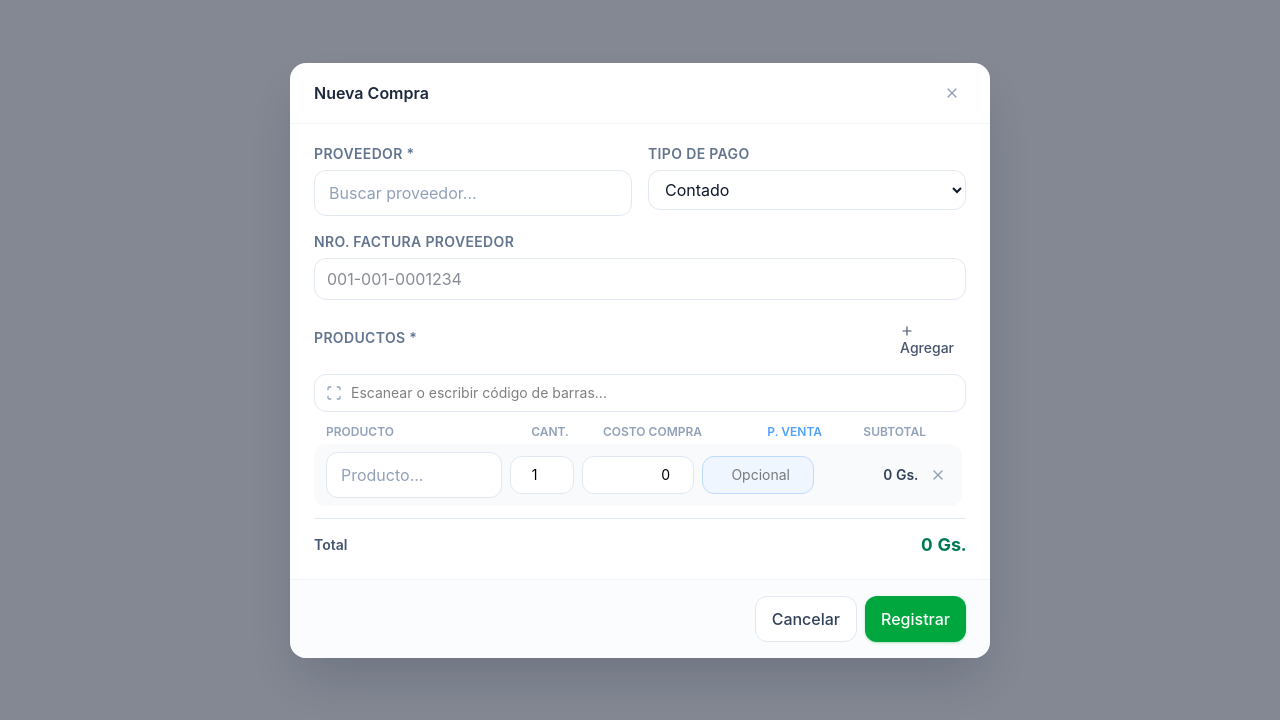
ModalCompra — margen costo vs. venta (Bloque 1) › indica que falta precio de venta cuando el campo queda en 0
Click the dropdown with placeholder "Buscar proveedor..." at x=473, y=192, box [314,170,632,216]
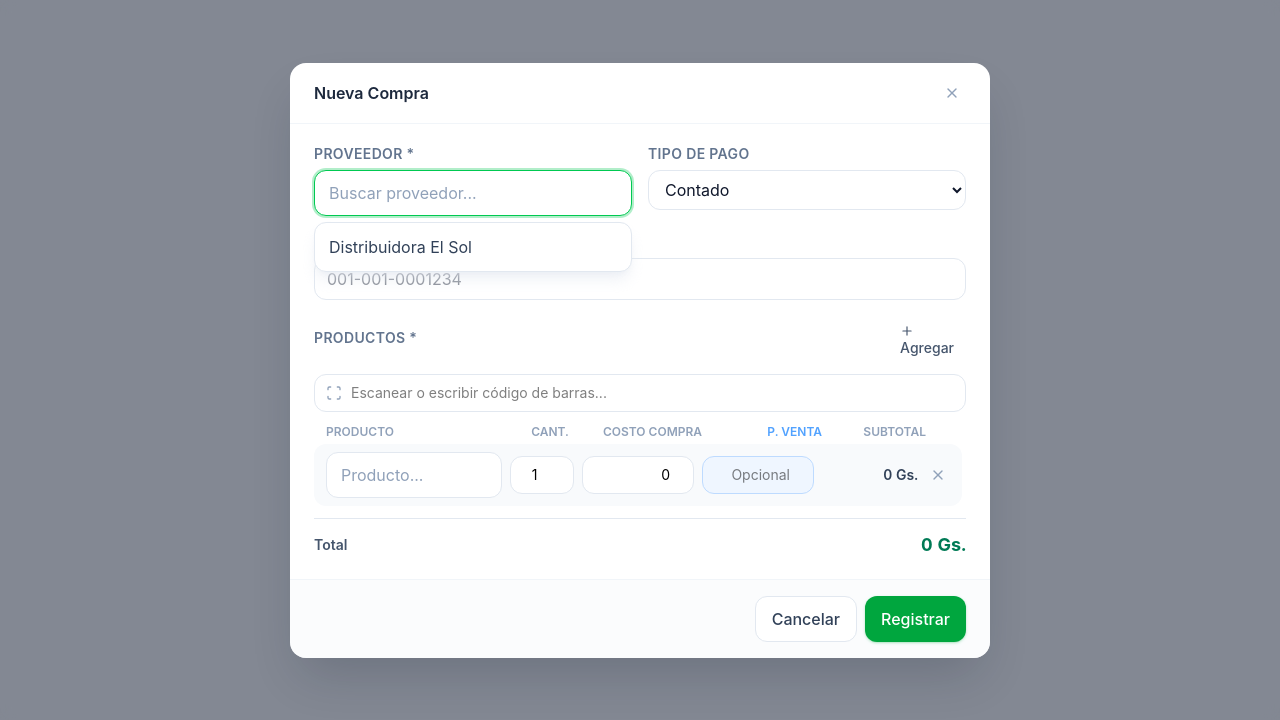
Click the option "Distribuidora El Sol" at x=400, y=246, box [329,236,472,256]
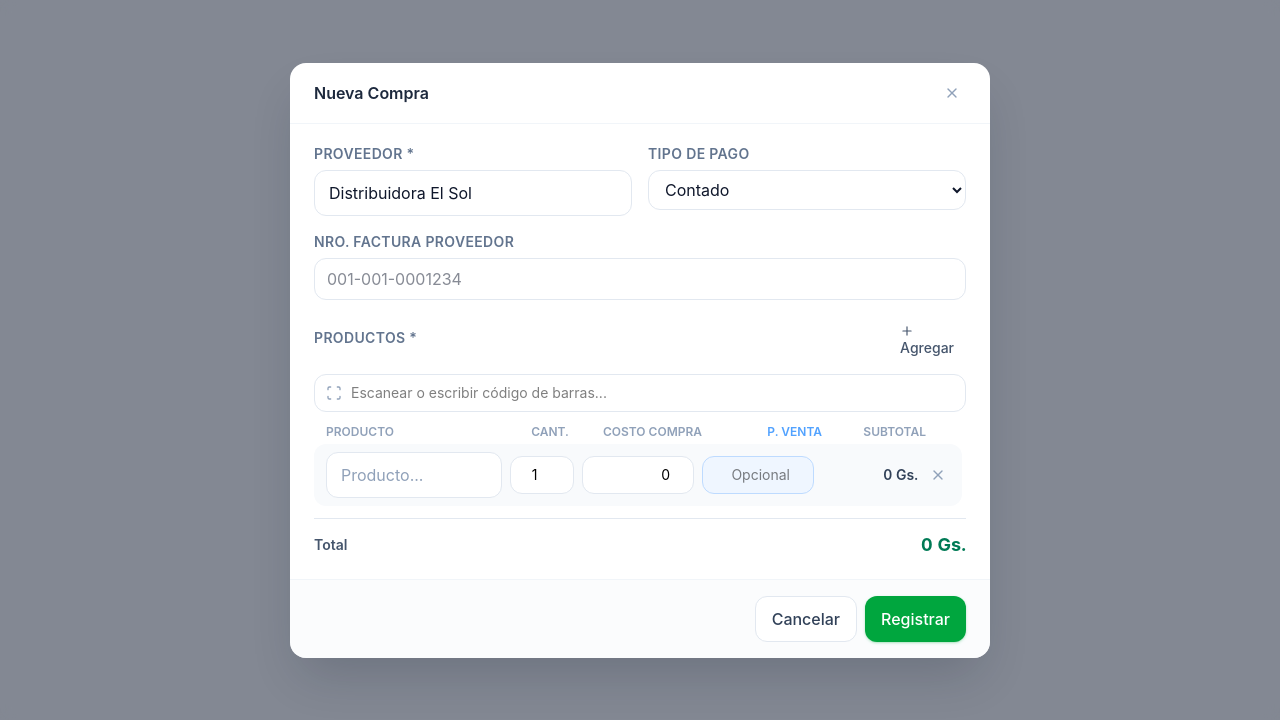
Click the dropdown with placeholder "Producto..." at x=414, y=474, box [326,452,502,498]
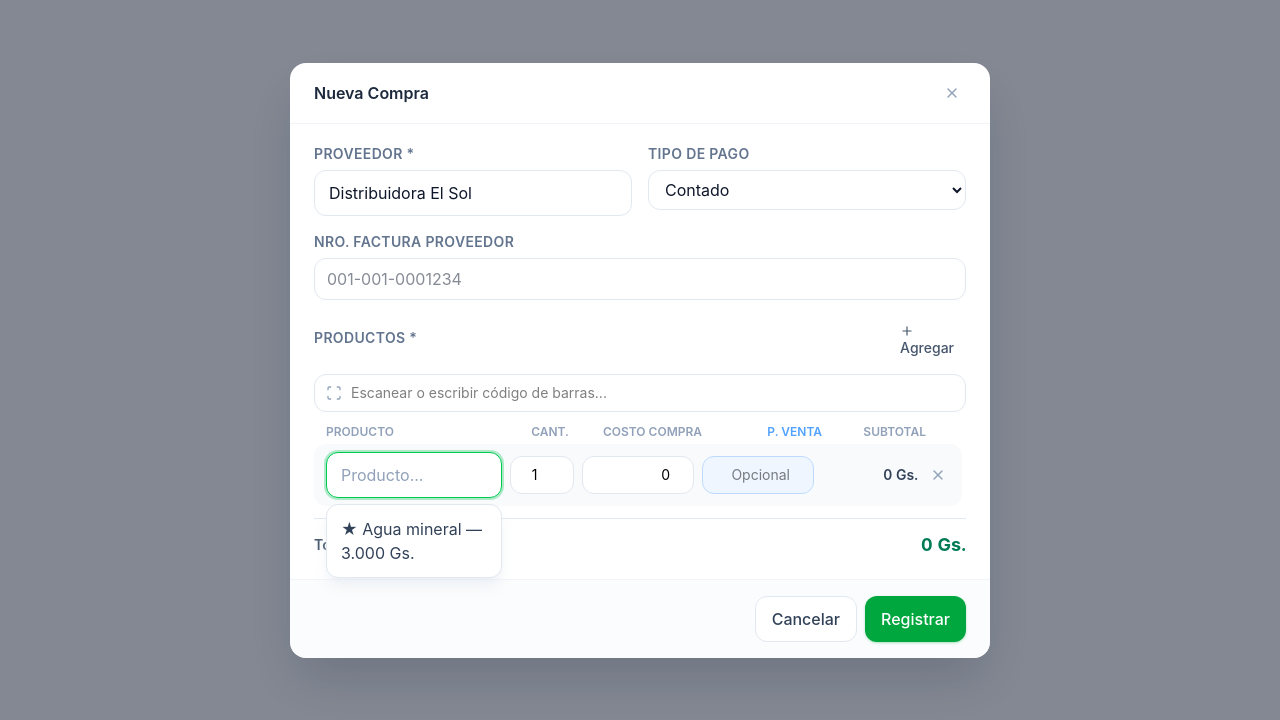
Click the option "★ Agua mineral — 3.000 Gs." at x=412, y=540, box [341,518,482,562]
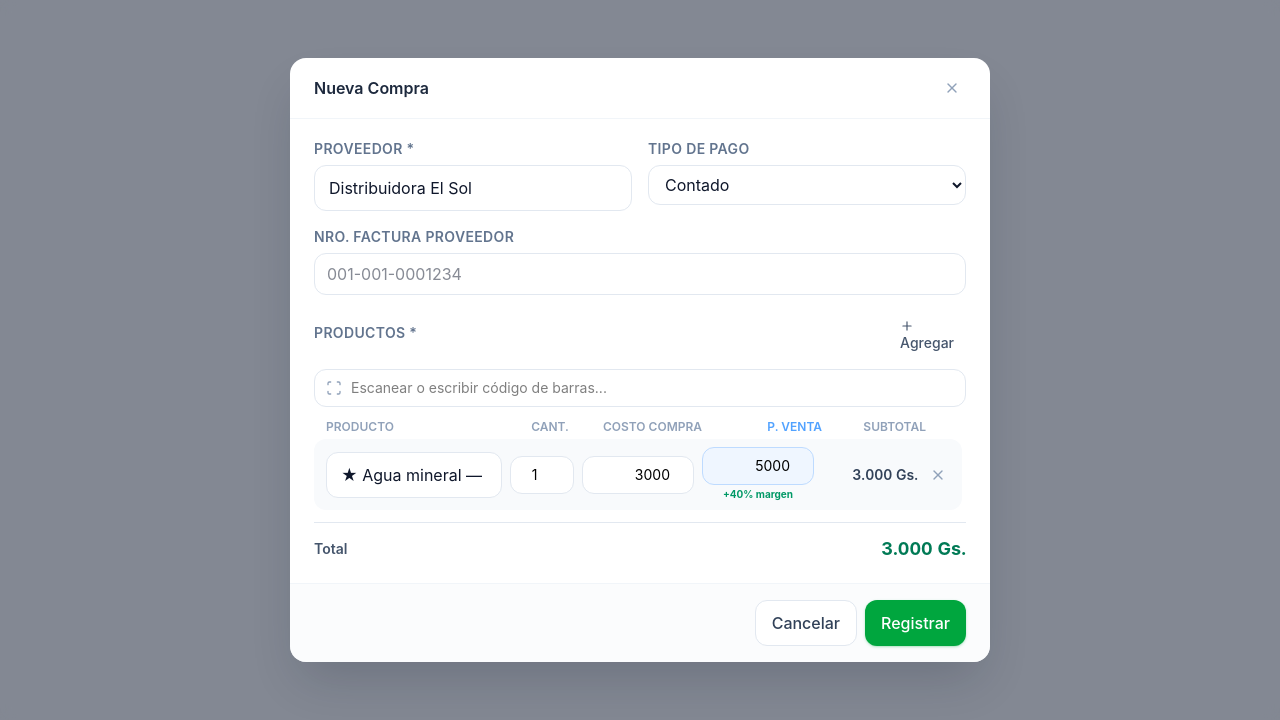
Now the text "+40% margen" is shown, box [723,488,793,500]
Clear the 3rd number field with placeholder "Opcional" at x=758, y=466, box [702,447,814,485]
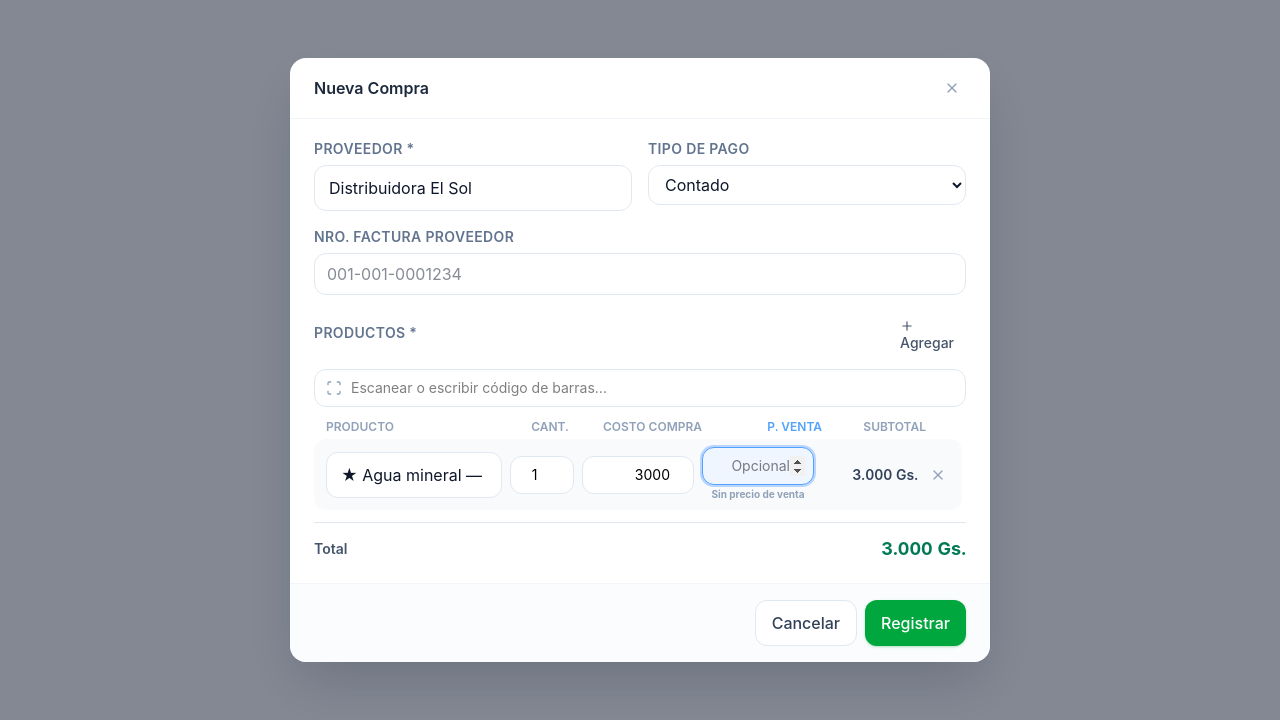
Now the text "Sin precio de venta" is shown, box [711,488,805,500]
